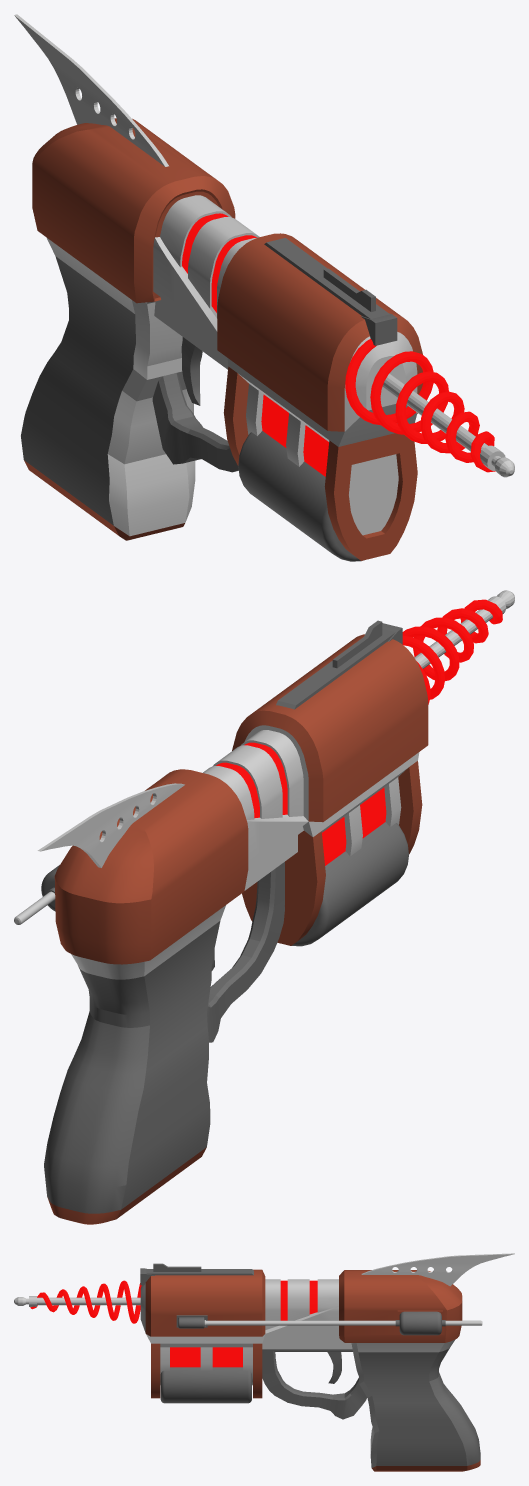
The model's file is GunExport.fbx.
3 views of the same model, one above another, from view 1: azimuth 30°, elevation 25°; view 2: azimuth 150°, elevation 25°; view 3: azimuth 270°, elevation 25° (orthographic). The views are drawn at different scales.
Parts seen in each view (by area): view 1: GunBody, Rear; view 2: GunBody, Rear; view 3: GunBody, Rear.
Part boxes in pixels (x1,y1,x2,y2): GunBody: [21, 195, 514, 561]; Rear: [14, 14, 235, 303]; GunBody: [14, 590, 514, 1224]; Rear: [37, 769, 248, 964]; GunBody: [14, 1263, 482, 1471]; Rear: [339, 1253, 514, 1342].
Size of the model in its own units: 83.06 by 267 by 575.
